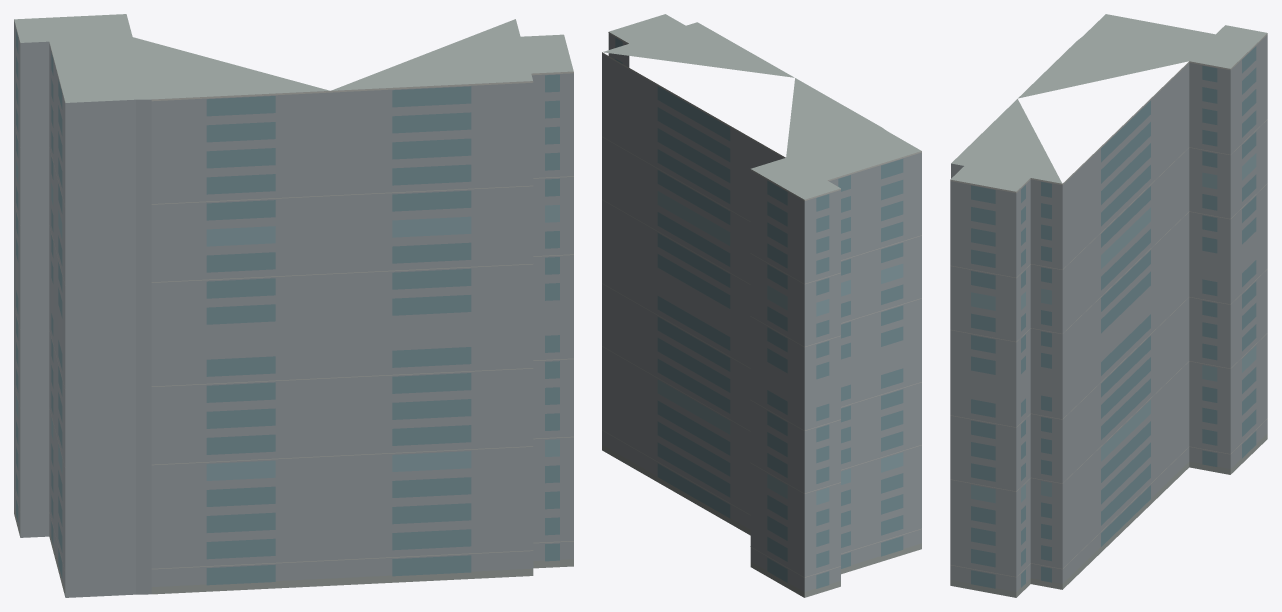
File: residential-022799c3-b99c-4d3a-98a4-94198e34c598.glb
3 renders of one model, left to right at view 1: azimuth 30°, elevation 25°; view 2: azimuth 150°, elevation 25°; view 3: azimuth 270°, elevation 25°, orthographic. The views are drawn at different scales.
Visible parts, largest first — view 1: residential-022799c3-b99c-4d3a-98a4-94198e34c598.tmp; view 2: residential-022799c3-b99c-4d3a-98a4-94198e34c598.tmp; view 3: residential-022799c3-b99c-4d3a-98a4-94198e34c598.tmp.
Part boxes in pixels (bbox=[...]): residential-022799c3-b99c-4d3a-98a4-94198e34c598.tmp: bbox=[14, 14, 573, 597]; residential-022799c3-b99c-4d3a-98a4-94198e34c598.tmp: bbox=[602, 14, 921, 597]; residential-022799c3-b99c-4d3a-98a4-94198e34c598.tmp: bbox=[950, 14, 1267, 597].
Size of the model in its own units: 63.87 by 68 by 48.19.
